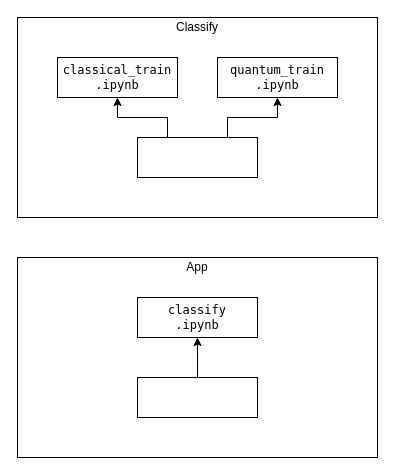
Some shapes in this 395 by 475 pixel diagram are drawn without their labels. Here are the shapes that lost their labels. From the top down, the box of each, then its label:
(136, 136, 258, 178): preprocess. ipynb
(136, 376, 258, 418): lime. ipynb
